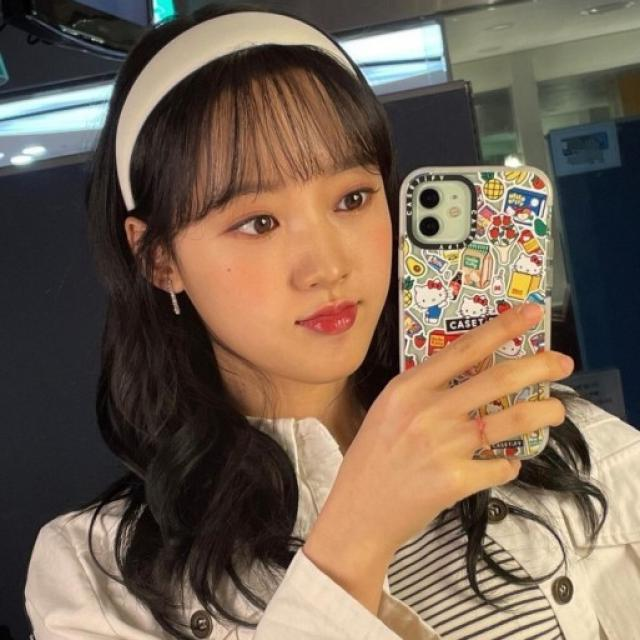mobile: (399, 157, 550, 467)
